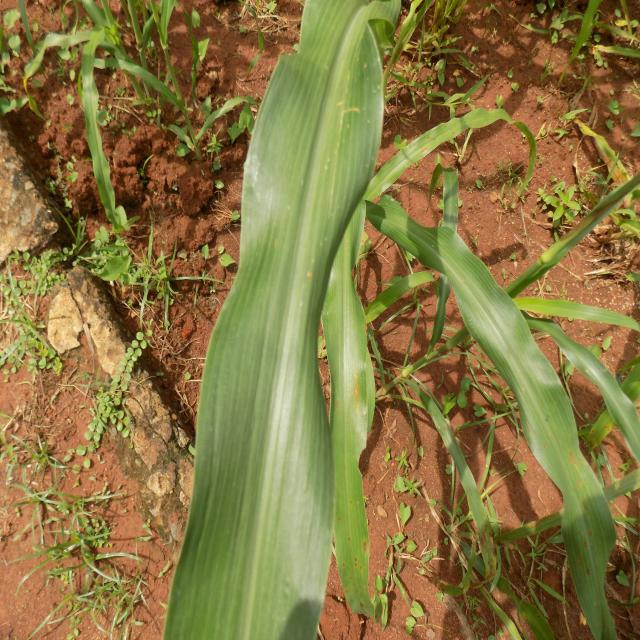millet_healthy: (162, 4, 386, 640), (368, 188, 640, 640), (349, 105, 555, 247), (323, 174, 380, 640), (518, 313, 640, 486), (511, 156, 640, 287), (78, 46, 124, 264), (506, 285, 640, 339), (427, 162, 462, 354)
